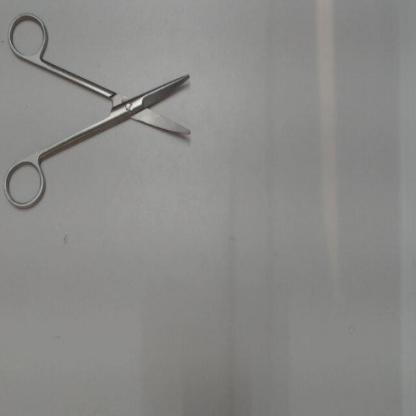Curved Mayo Scissors: (2, 7, 197, 218)
